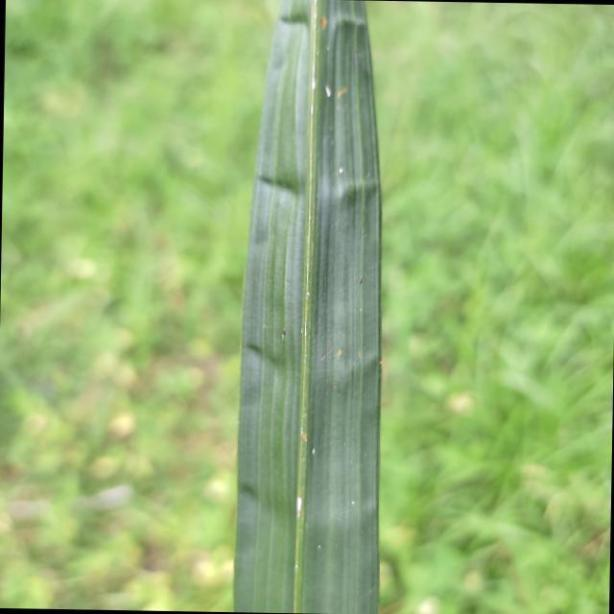Boron: (238, 0, 385, 614)
